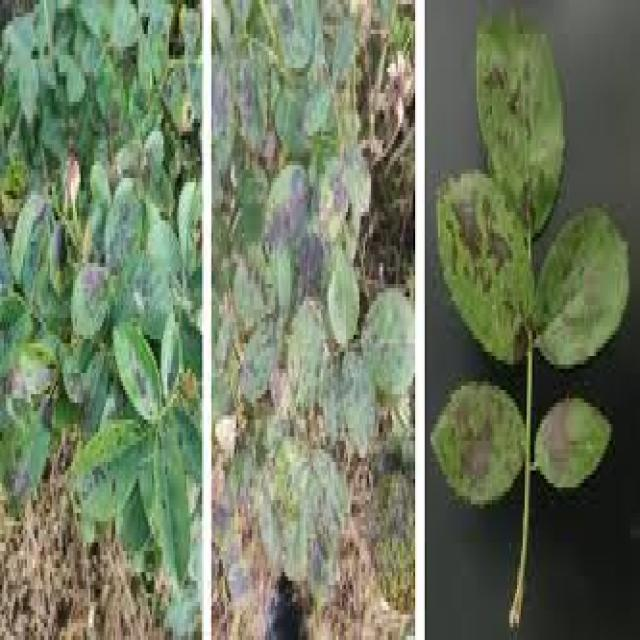leaf_spot: (438, 19, 624, 566), (230, 58, 398, 621), (11, 168, 183, 549)
